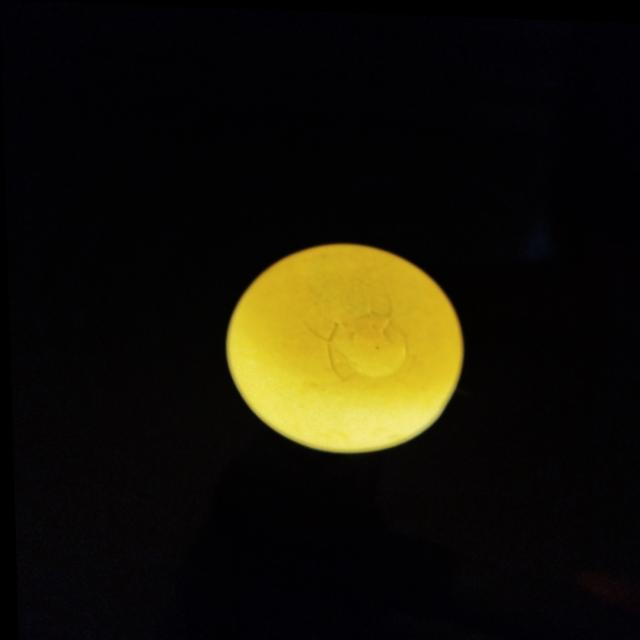Rachadura: (307, 296, 413, 386)
